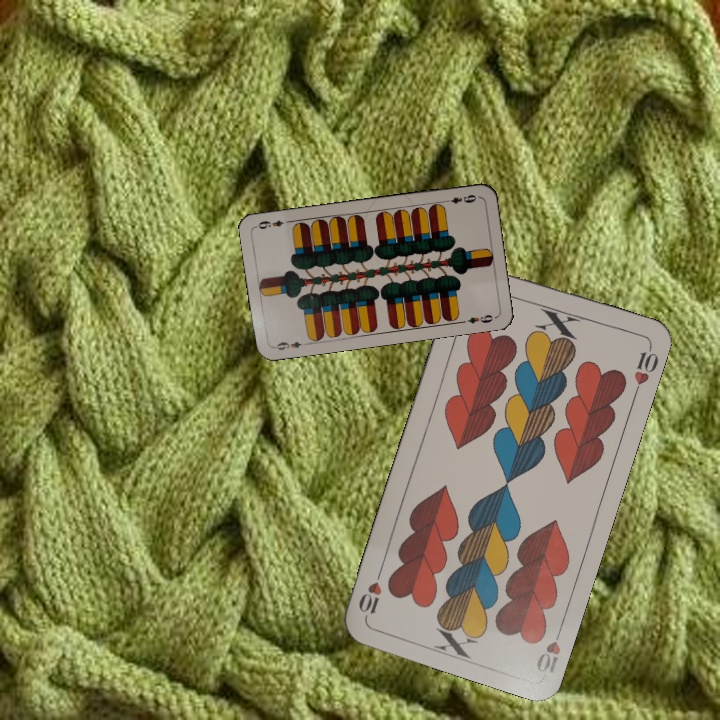E9: (440, 190, 481, 206), (270, 337, 310, 353)
H10: (532, 620, 566, 676)
